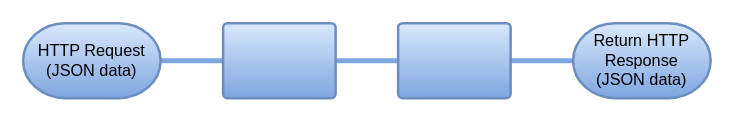
Image size: 733x120. Some labels were removed from this diagram. Here are the shapes that lost their labels. From the top down, the centre of each, then its label:
At [278,60]: "Store Data to Database".
At [453,60]: "Sent Task to Task Queue".
